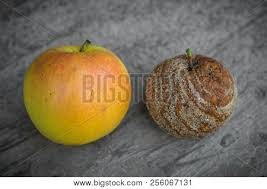apple: (24, 48, 130, 148)
damaged_apple: (146, 56, 236, 140)
